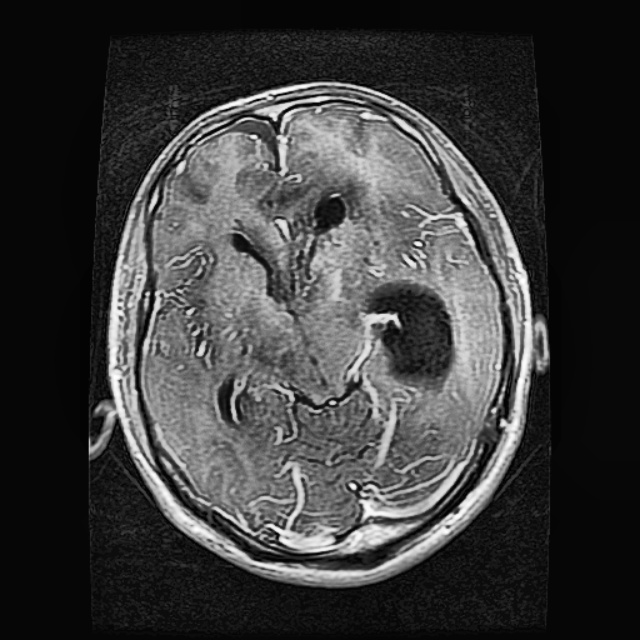Glioma: (359, 279, 453, 384)
